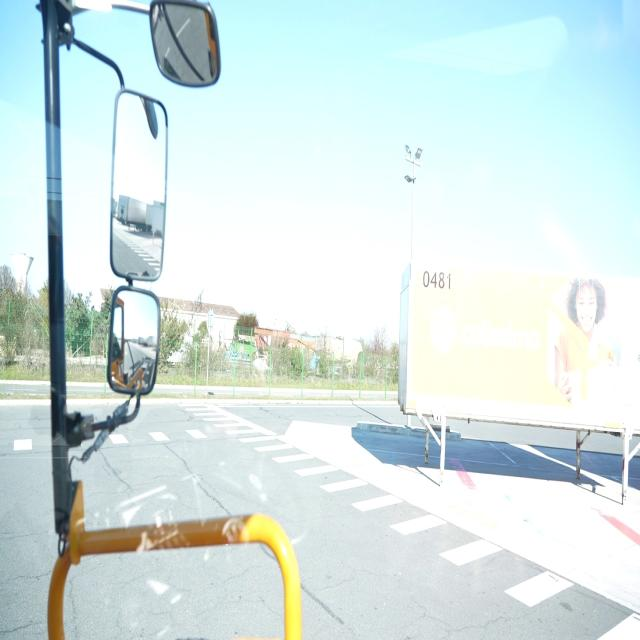Code: (418, 265, 456, 300)
